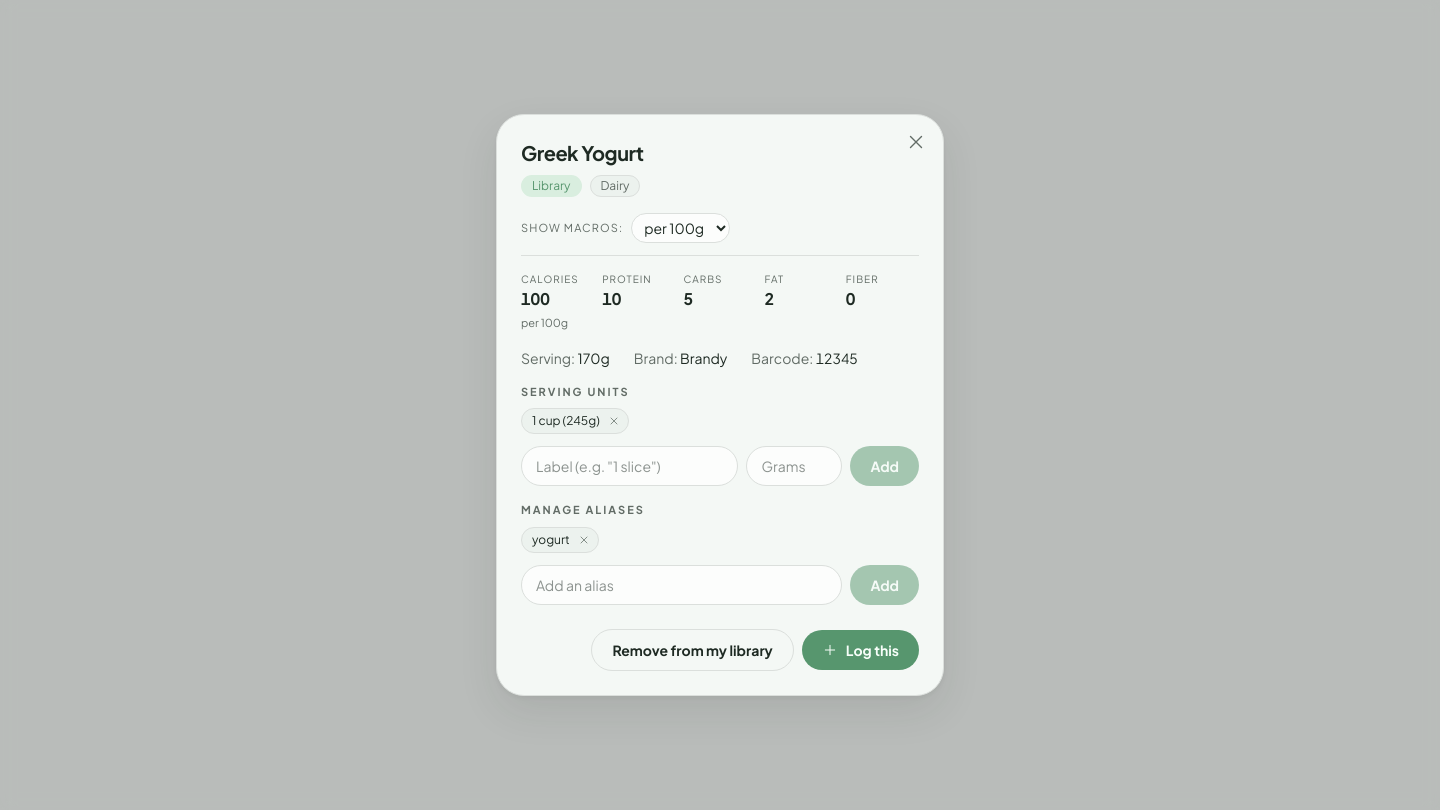
Scenario: FoodDetailModal › scales displayed macros when switching the serving-unit basis
Expected: the heading "Greek Yogurt" is shown, [521,140,644,165]
Expected: the text "100" is shown, [521,288,550,309]
Select "per 1 cup" in the dropdown: (681, 228) [631,213,730,243]
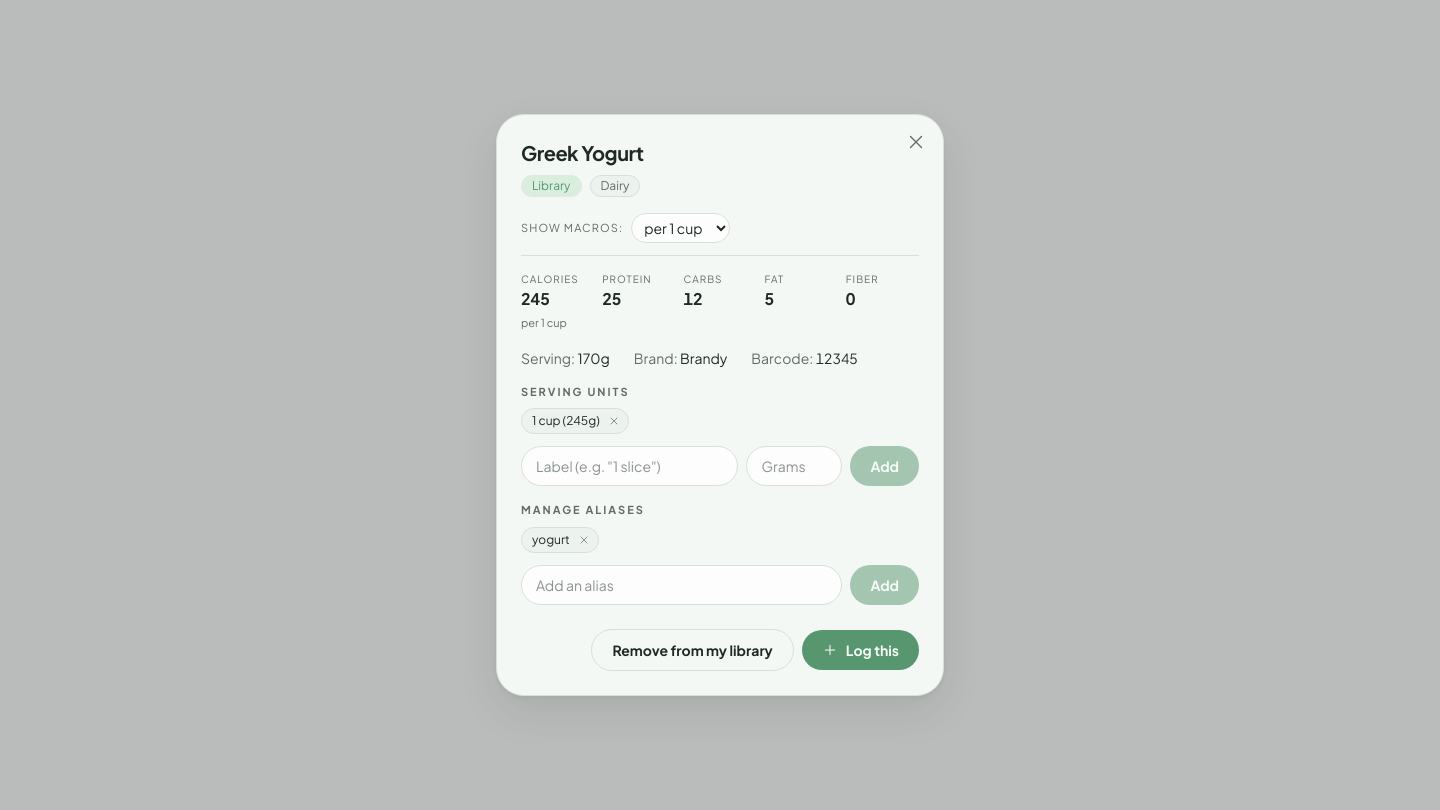
Expected: the text "245" is shown, [521,288,550,309]
